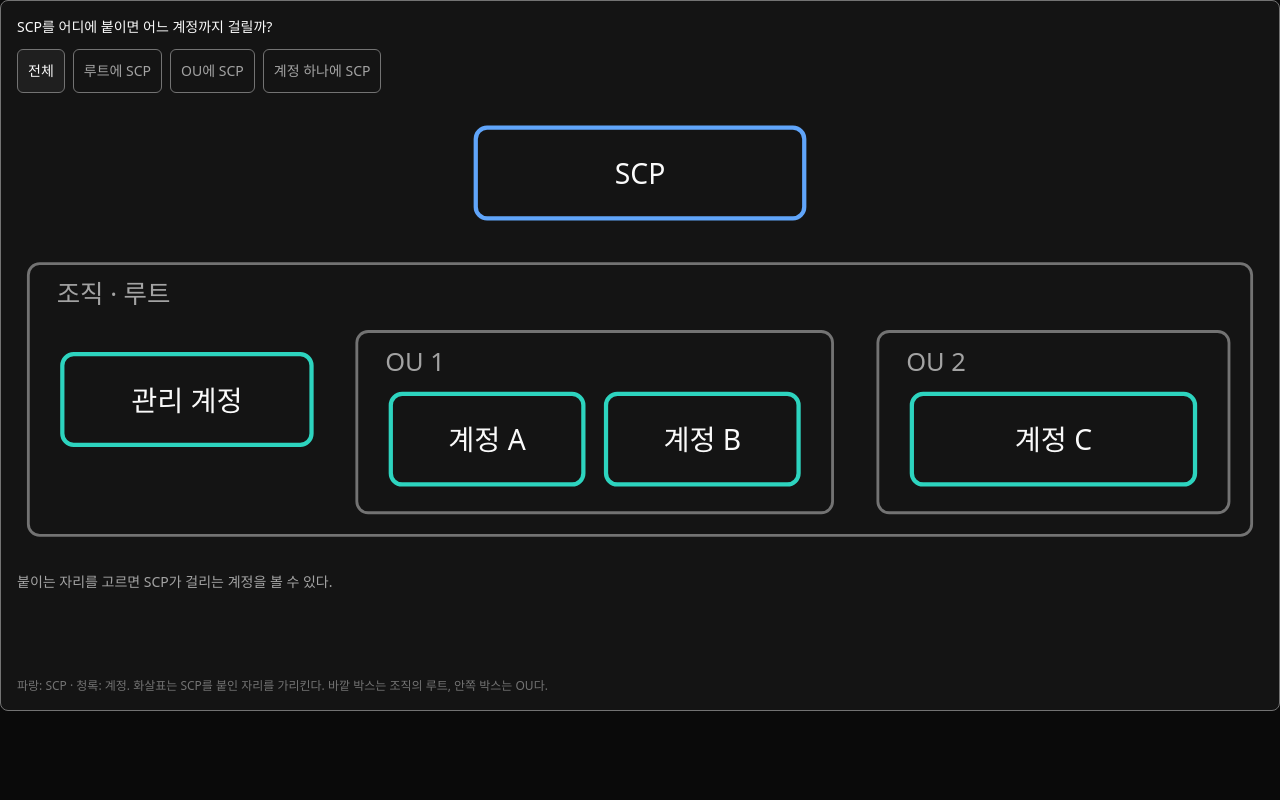
it: OrgScpScopeDiagram › 가로형 (768px 이상) › 루트에 SCP: 세로형과 같은 노드·경로·곁말·캡션을 보이고 곁말은 루트 안에서 노드·그룹·경로와 겹치지 않는다
Click the button "루트에 SCP" at (117, 71), box left=73, top=49, right=162, bottom=93
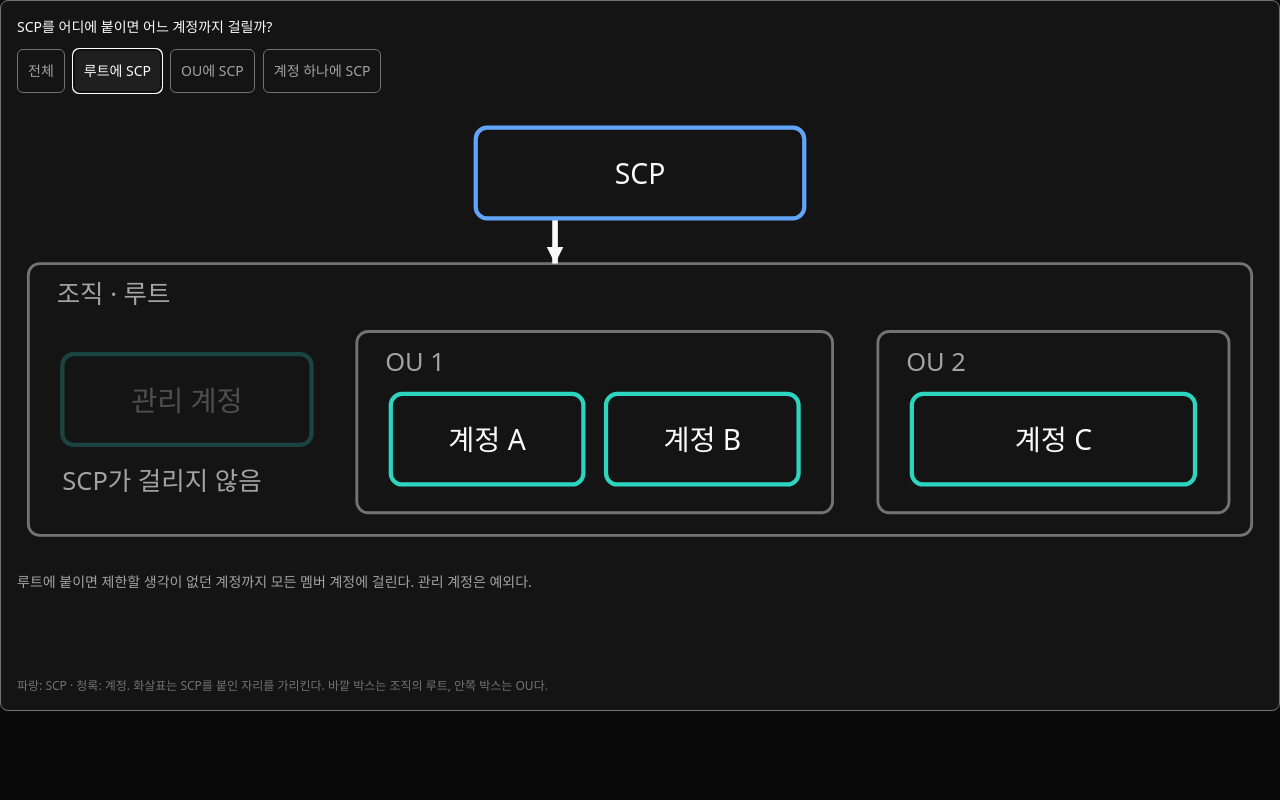
Check: the text "루트에 붙이면 제한할 생각이 없던 계정까지 모든 멤버 계정에 걸린다. 관리 계정은 예외다." is shown, box left=17, top=572, right=532, bottom=591
